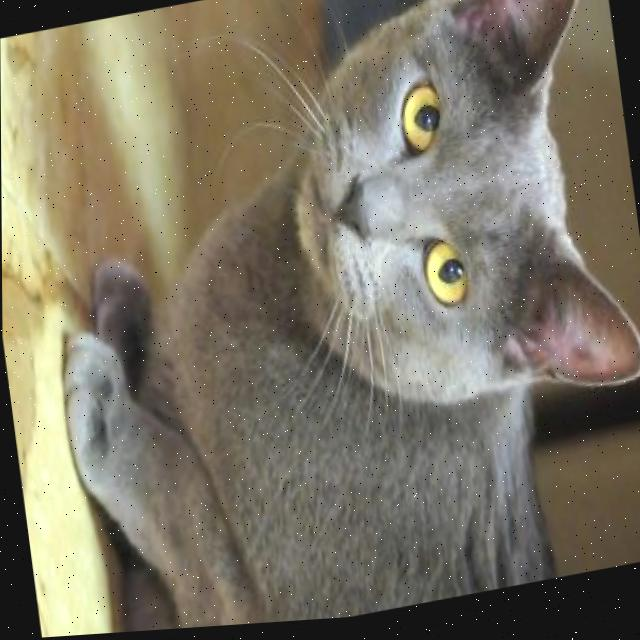Russian Blue: (12, 0, 640, 639)
